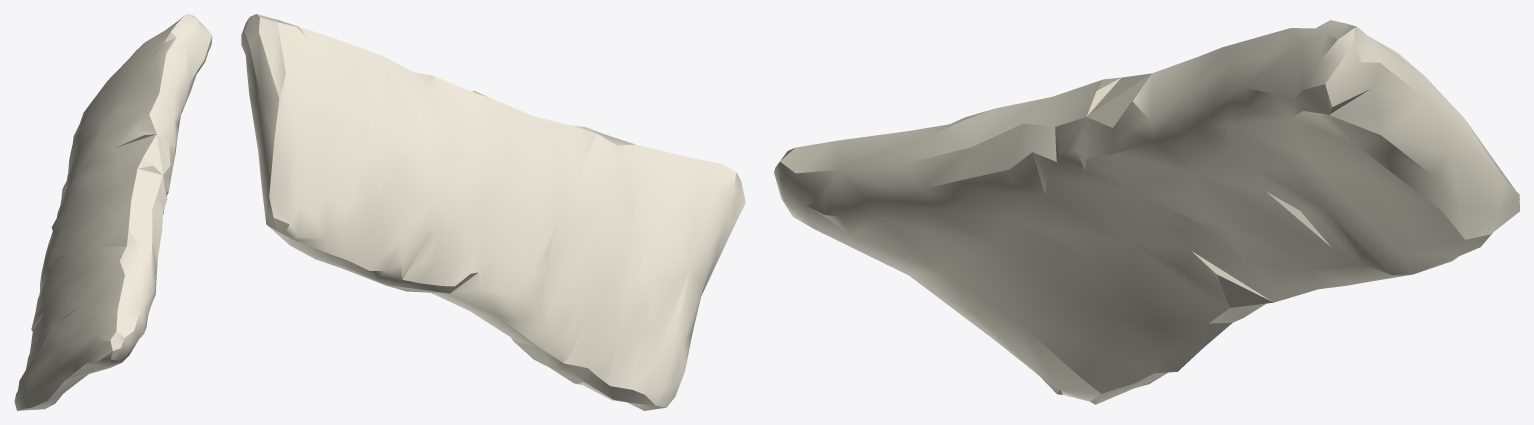
File: fma44229_mm1377m.glb
The picture shows the model from 3 angles, left to right: view 1: azimuth 30°, elevation 25°; view 2: azimuth 150°, elevation 25°; view 3: azimuth 270°, elevation 25°; orthographic projection. The views are drawn at different scales.
Parts seen in each view (by area): view 1: FMA44229_MM1377M; view 2: FMA44229_MM1377M; view 3: FMA44229_MM1377M.
Part boxes in pixels (x1,y1,x2,y2): FMA44229_MM1377M: (14,14,212,410); FMA44229_MM1377M: (241,14,745,410); FMA44229_MM1377M: (774,20,1519,404).
Bounding box in the file's own units: 0.0138 × 0.0146 × 0.017.
